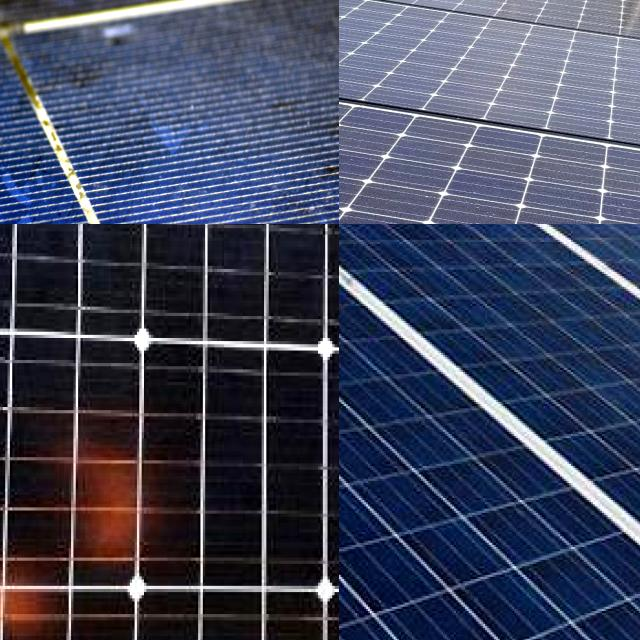crack: (339, 224, 640, 640), (339, 224, 640, 335), (339, 224, 538, 352), (432, 224, 640, 330)
shadow: (46, 409, 156, 561), (0, 555, 64, 640)
